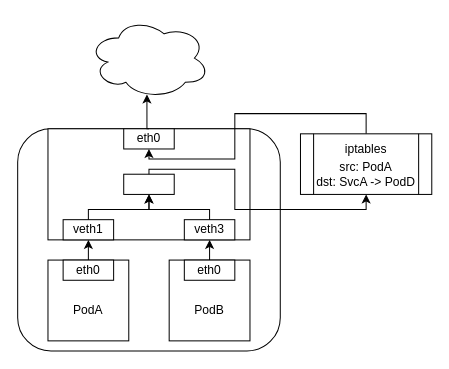
The diagram is 449 pixels wide and 369 high, and some of its shapes have lost their labels. Each missing label, with the box of its shape:
cbr0: (123, 173, 174, 194)
Default Gateway: (87, 17, 210, 98)
